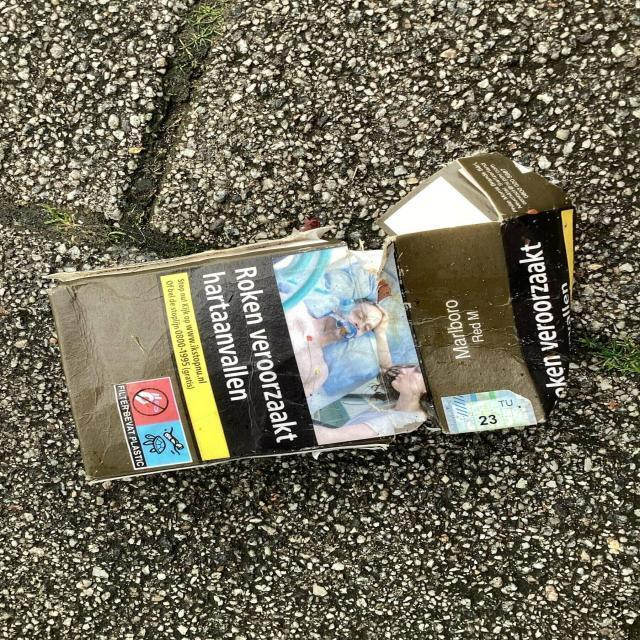Paper: (37, 149, 583, 489)
